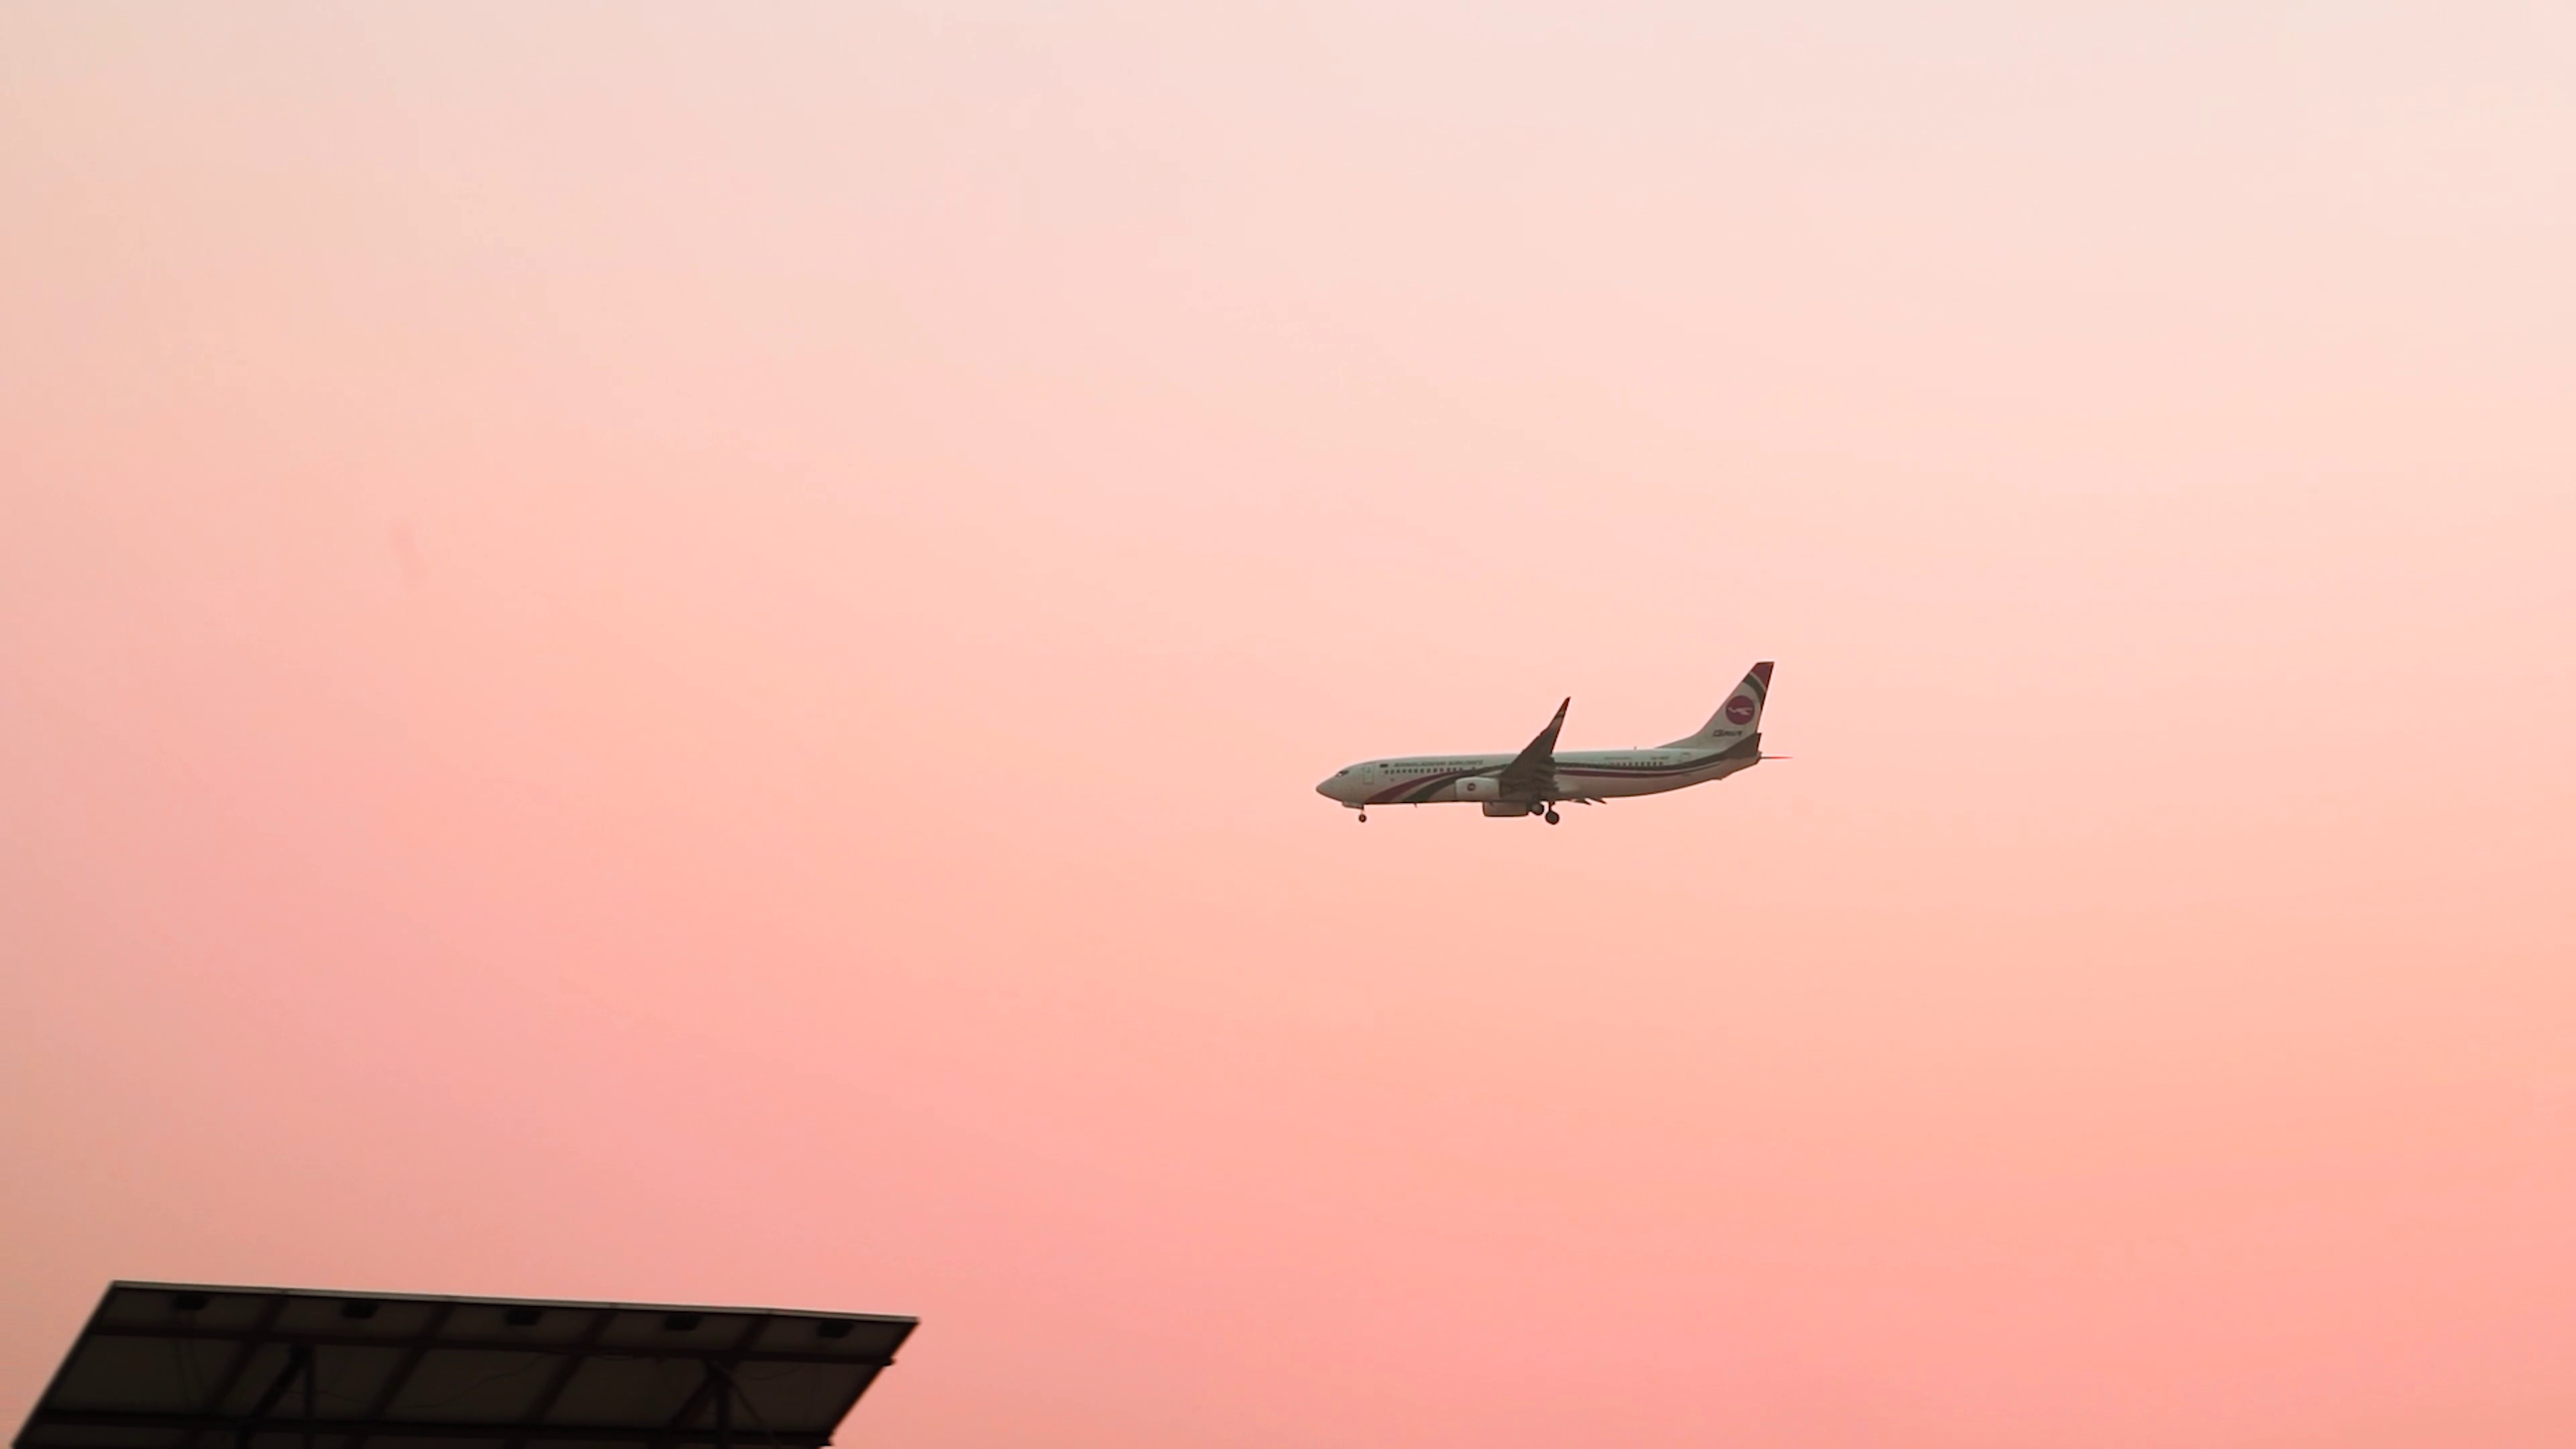plane: (1313, 660, 1796, 824)
